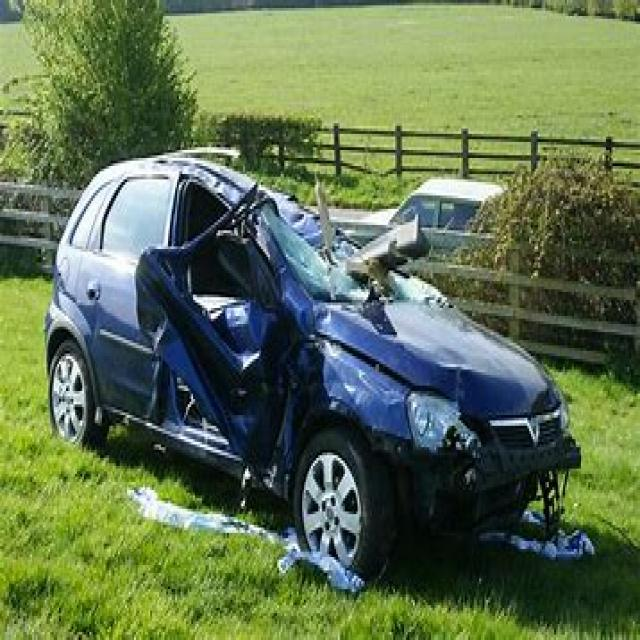Accident: (86, 80, 617, 640)
